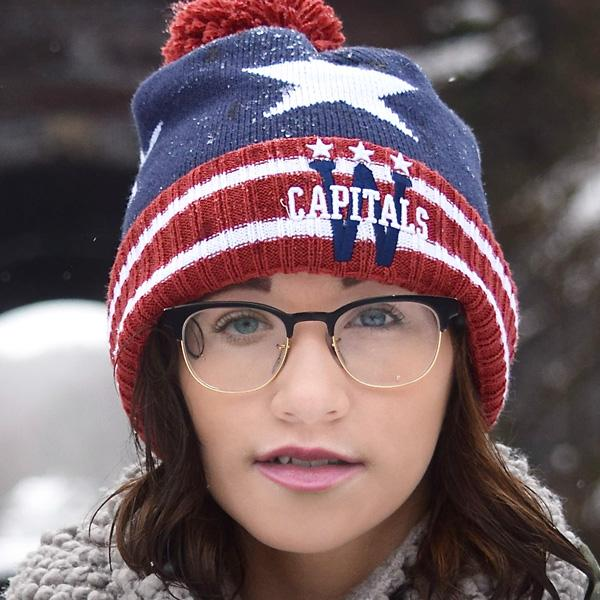Eyes: (208, 302, 278, 349), (339, 295, 411, 339)
